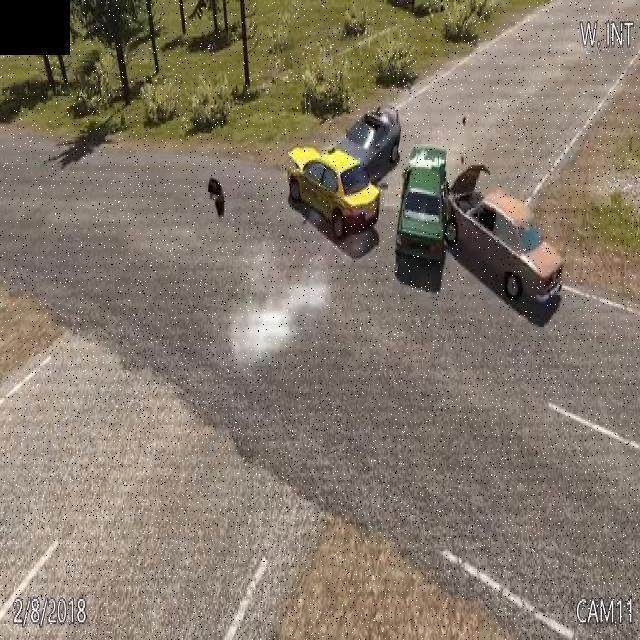accident: (397, 141, 573, 328), (279, 100, 403, 234)
